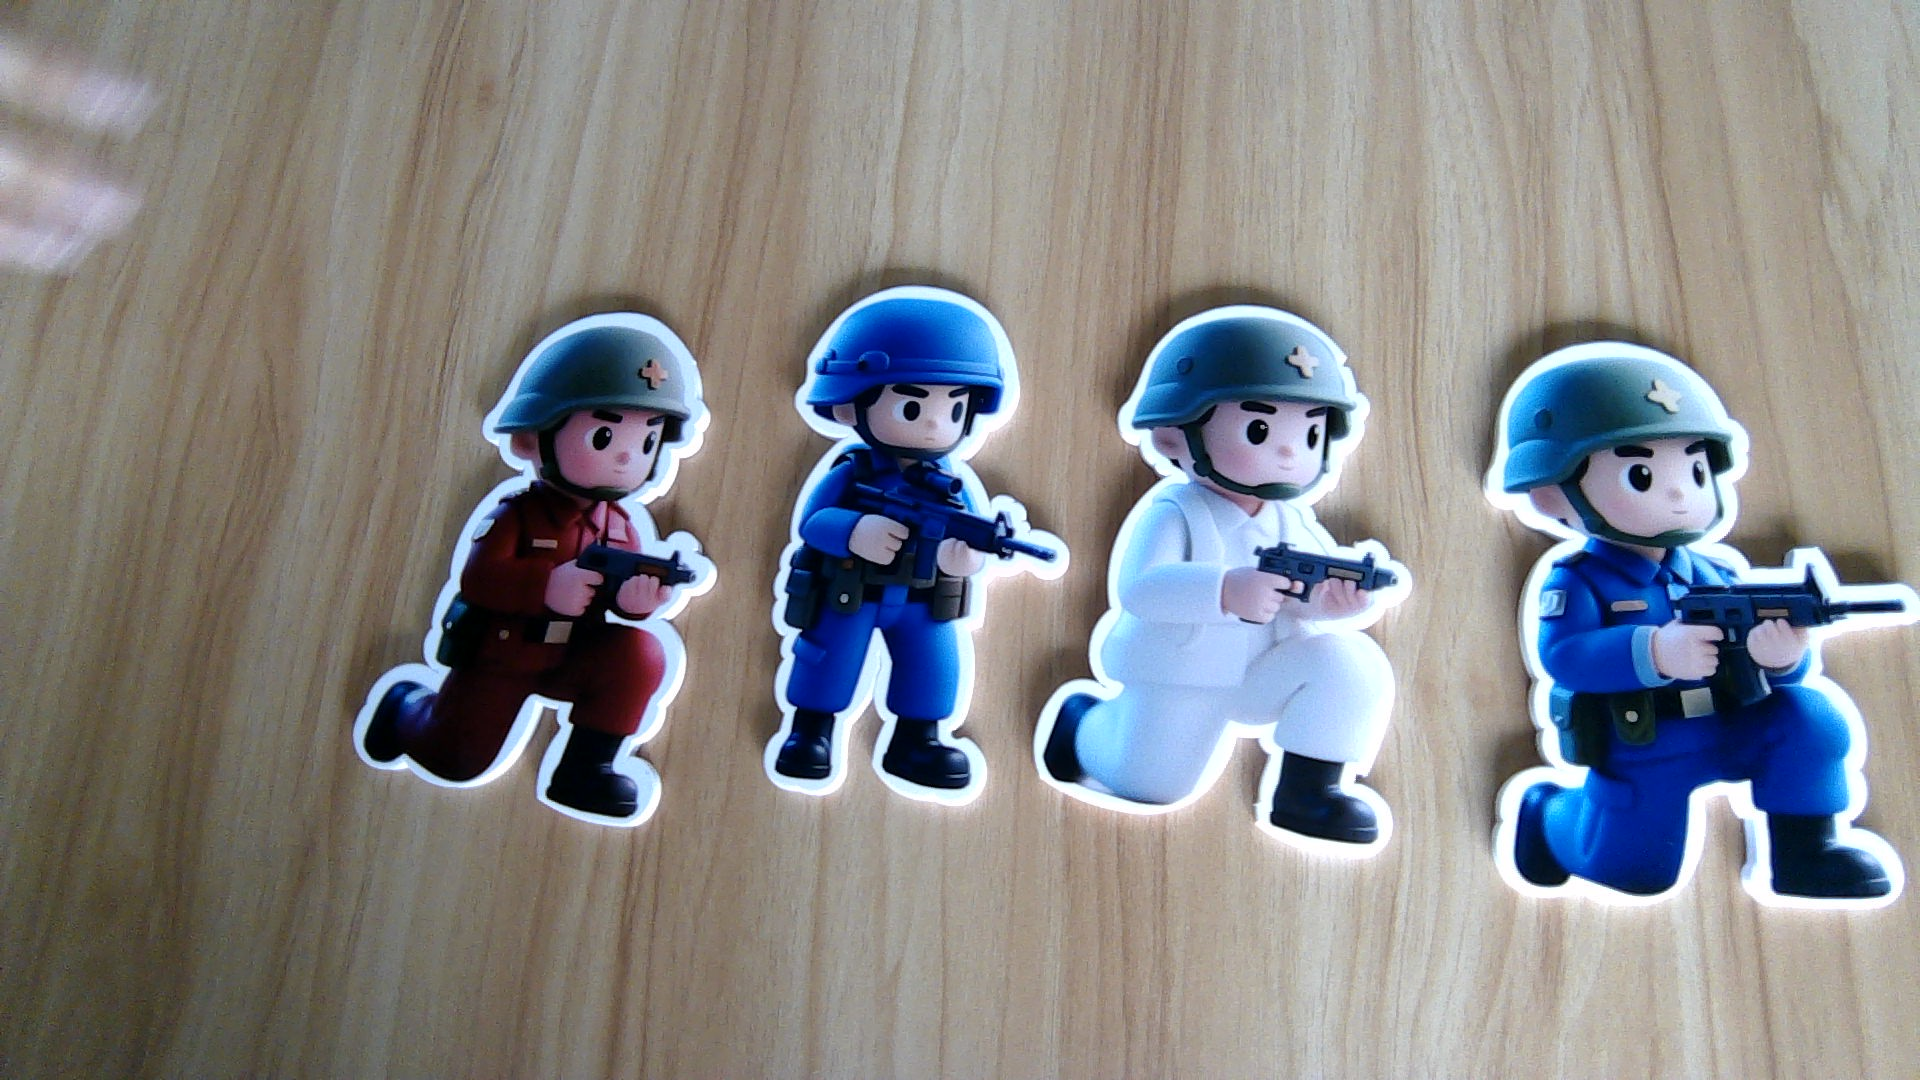人质: (1031, 483, 1422, 864)
敌人1: (347, 473, 719, 833)
敌人2: (1484, 549, 1916, 909), (764, 454, 1019, 810)
